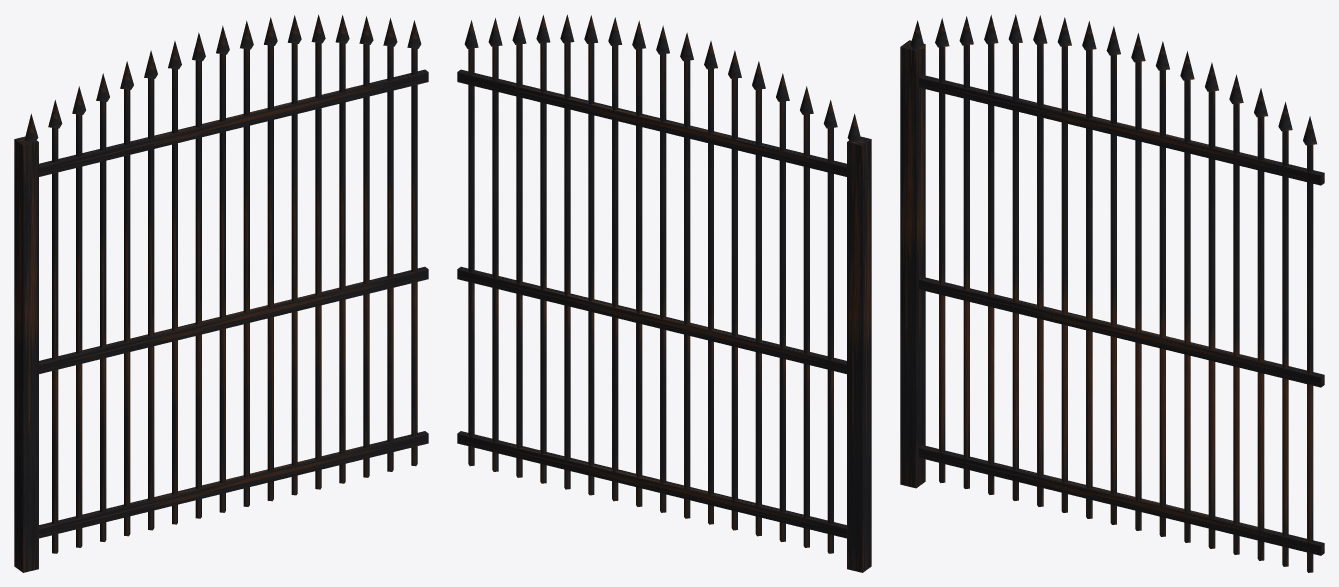
Rendered from gate_leaf.glb.
The picture shows the model from 3 angles, left to right: view 1: azimuth 30°, elevation 25°; view 2: azimuth 150°, elevation 25°; view 3: azimuth 330°, elevation 25°; orthographic projection. The views are drawn at different scales.
Parts seen in each view (by area): view 1: gate_leaf; view 2: gate_leaf; view 3: gate_leaf.
Boxes of the visible parts, x1,y1,x2,y2 form: gate_leaf: (14, 14, 428, 572); gate_leaf: (457, 14, 871, 572); gate_leaf: (900, 14, 1324, 572).
Size of the model in its own units: 2.6 by 3.01 by 0.1.
1 material, 1 textured.
